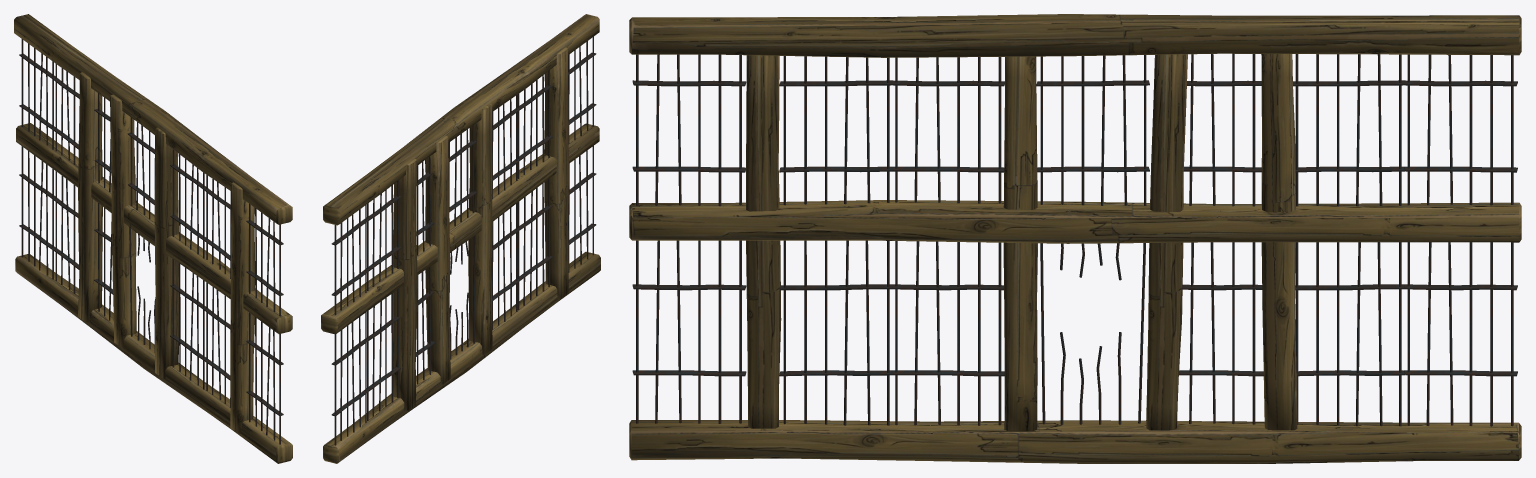
The model's file is wallJailLowPoly.fbx.
3 views of the same model, side by side, from view 1: azimuth 30°, elevation 25°; view 2: azimuth 150°, elevation 25°; view 3: azimuth 270°, elevation 25° (orthographic). The views are drawn at different scales.
Parts seen in each view (by area): view 1: beamMedium9, pCylinder38; view 2: beamMedium9, pCylinder38; view 3: beamMedium9, pCylinder38.
Boxes of the visible parts, x1,y1,x2,y2 form: beamMedium9: (14, 14, 292, 463); pCylinder38: (19, 39, 283, 444); beamMedium9: (321, 14, 600, 463); pCylinder38: (331, 36, 596, 445); beamMedium9: (629, 14, 1521, 463); pCylinder38: (632, 53, 1517, 426).
Size of the model in its own units: 0.401 by 4.44 by 8.17.
